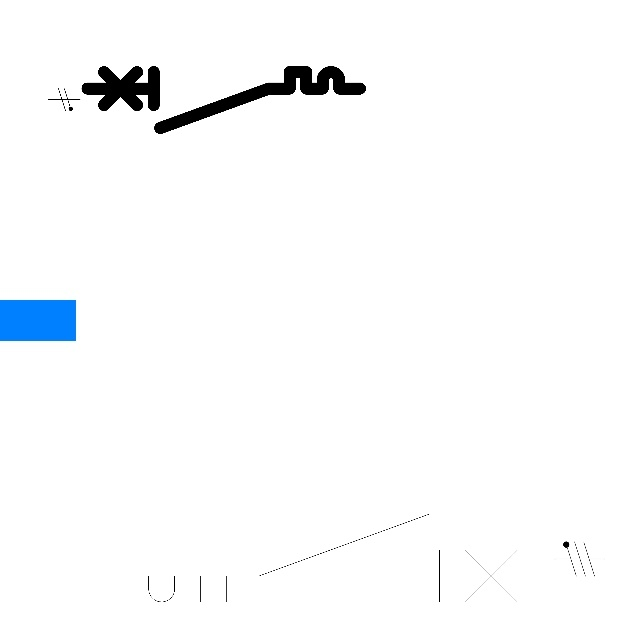interruptor_termomagnetico: (105, 503, 554, 613), (80, 65, 366, 135)
